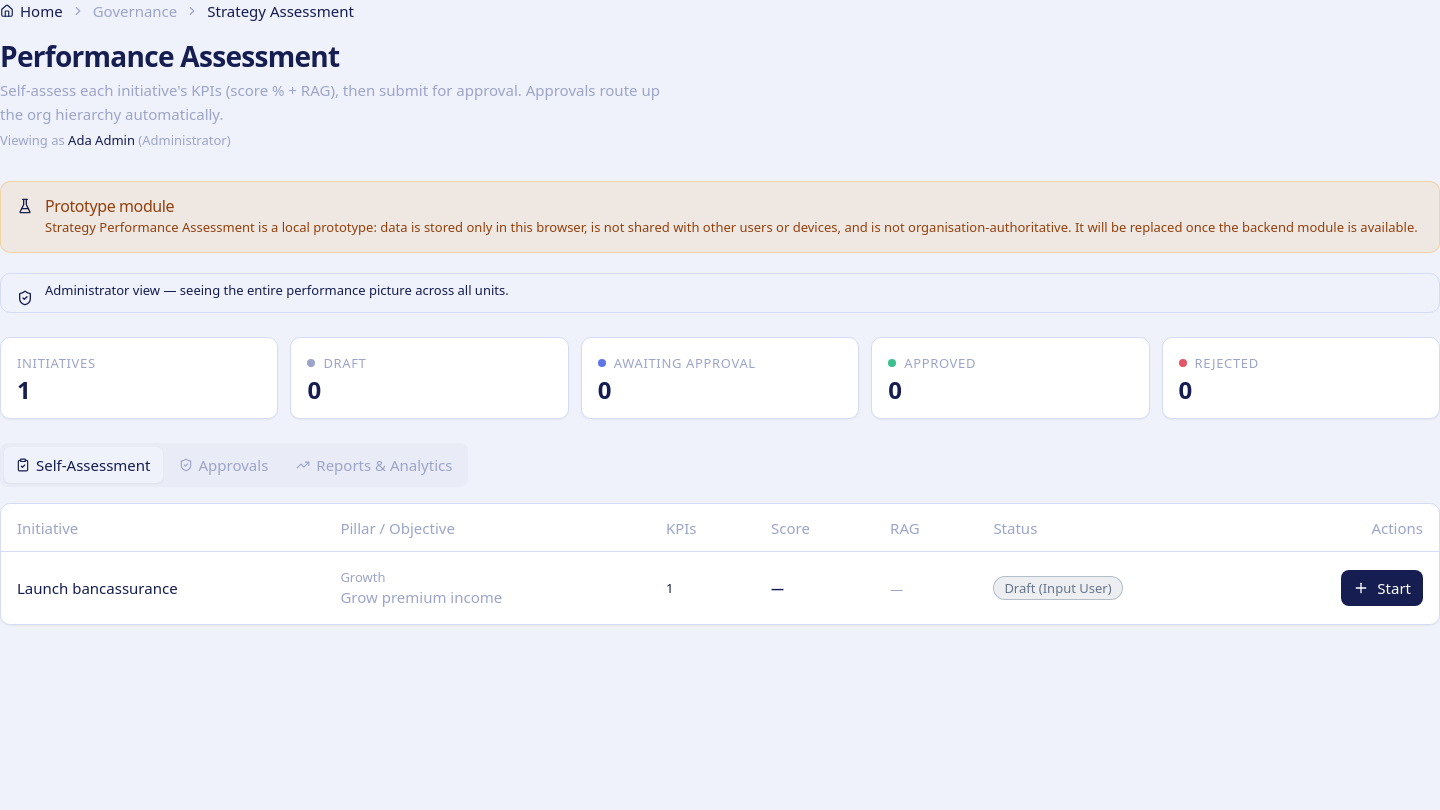
Scenario: StrategyAssessment › lists initiatives and lets a user score KPIs and submit for approval
Expected: the text "Launch bancassurance" is shown, [17,578,178,598]
Click the button "Start" at [1382, 588], box [1341,570,1423,606]
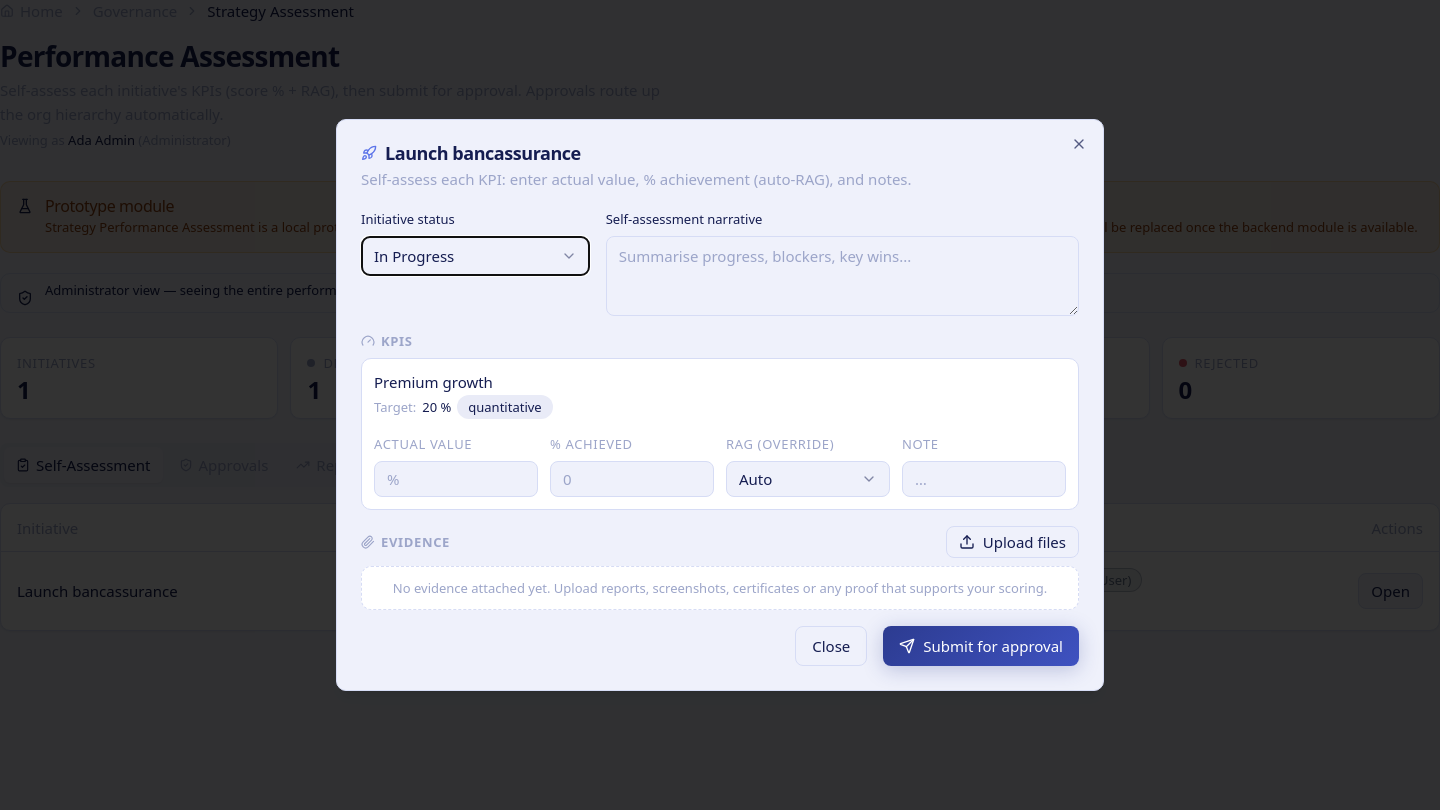
Type "80" into the number field labelled "% Achieved" at [632, 479], box [550,461,714,497]
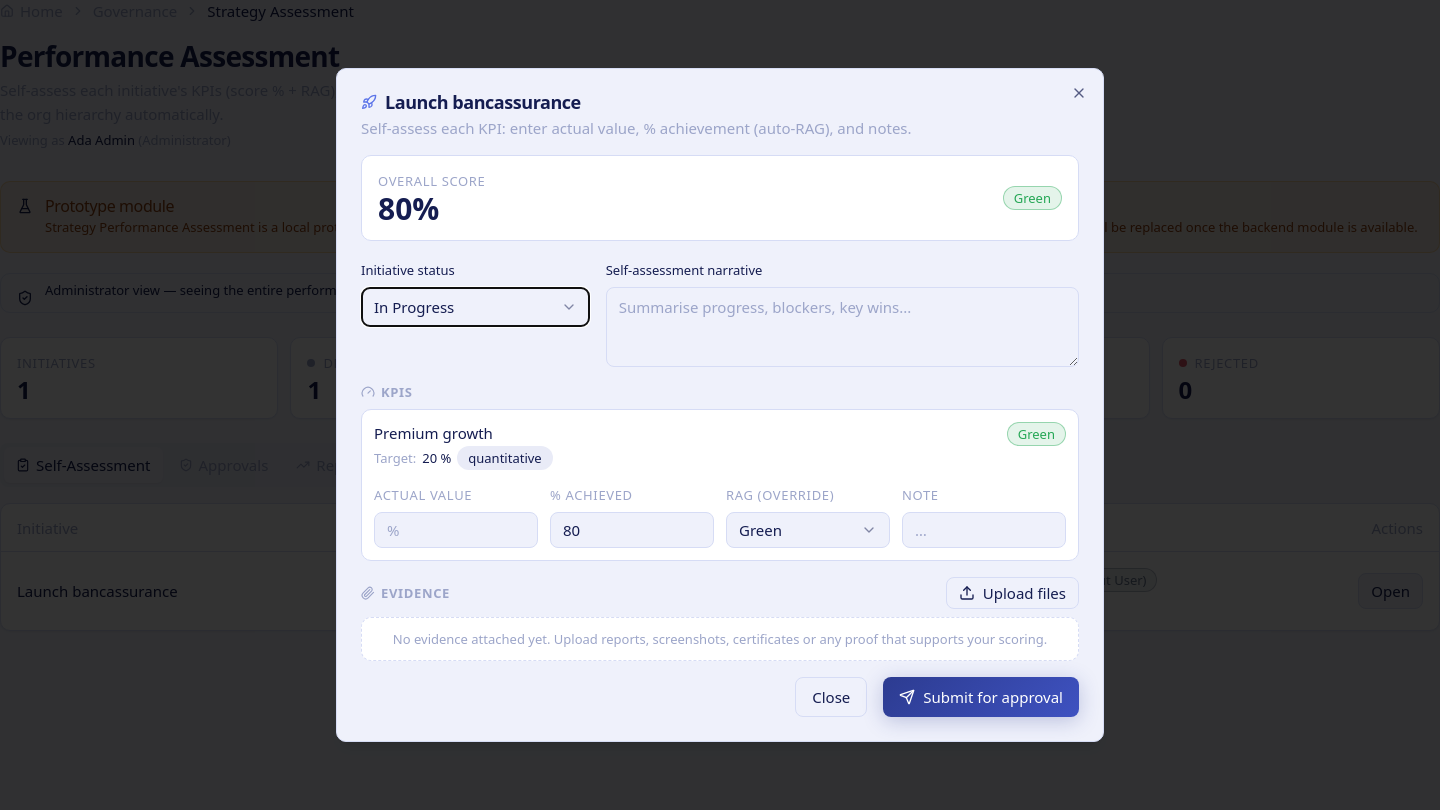
Expected: the text "80%" is shown, [378,188,439,229]
Click the button "Submit for approval" at [981, 697], box [883,677,1079,717]
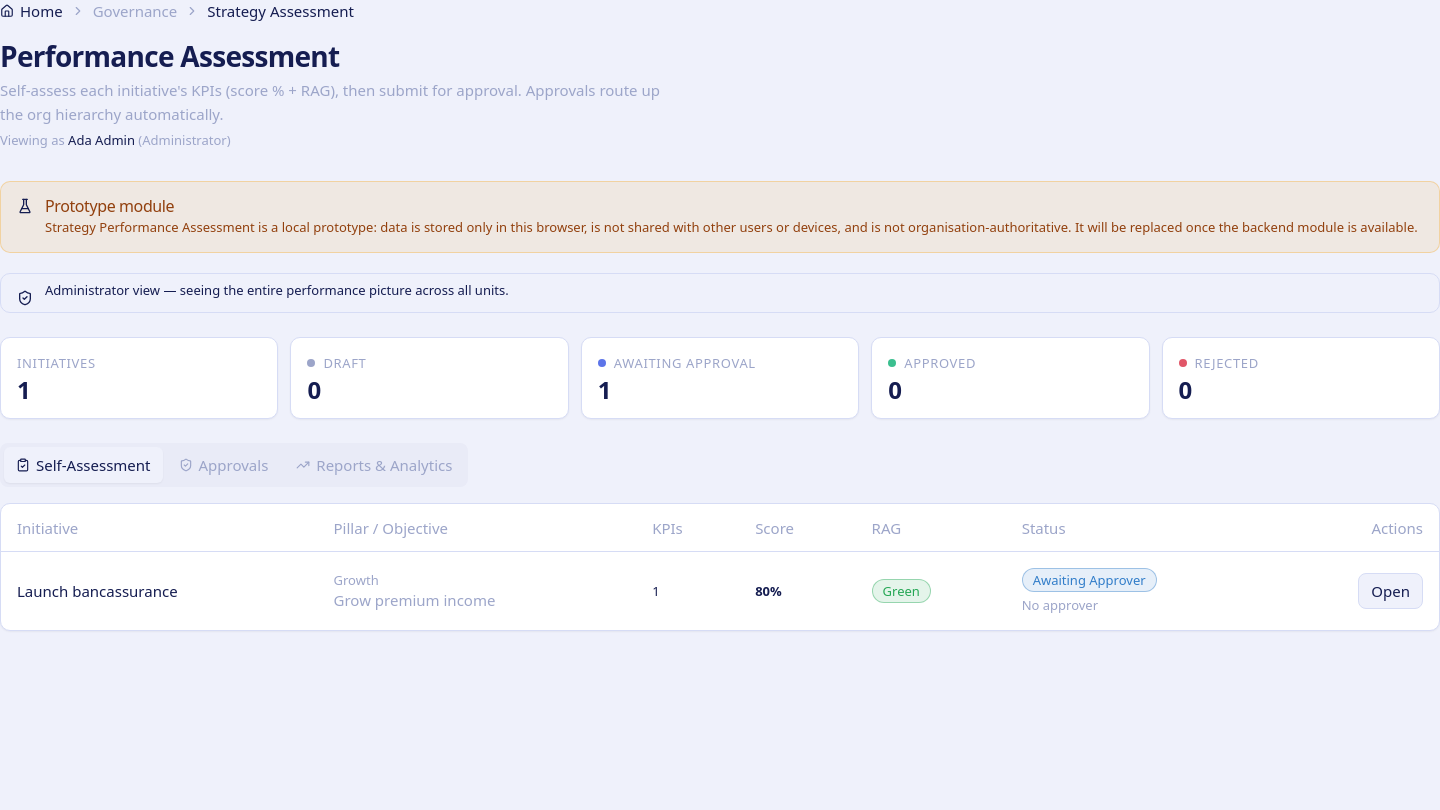
Expected: the dialog is gone
